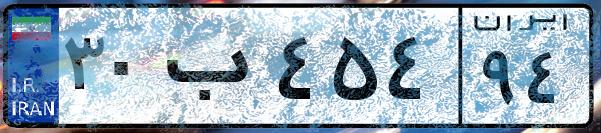0: (110, 28, 158, 98)
3: (57, 26, 110, 100)
4: (270, 28, 330, 110), (385, 28, 445, 110), (525, 38, 570, 115)
5: (330, 28, 385, 110)
9: (475, 38, 525, 113)
ب: (158, 20, 270, 120)
